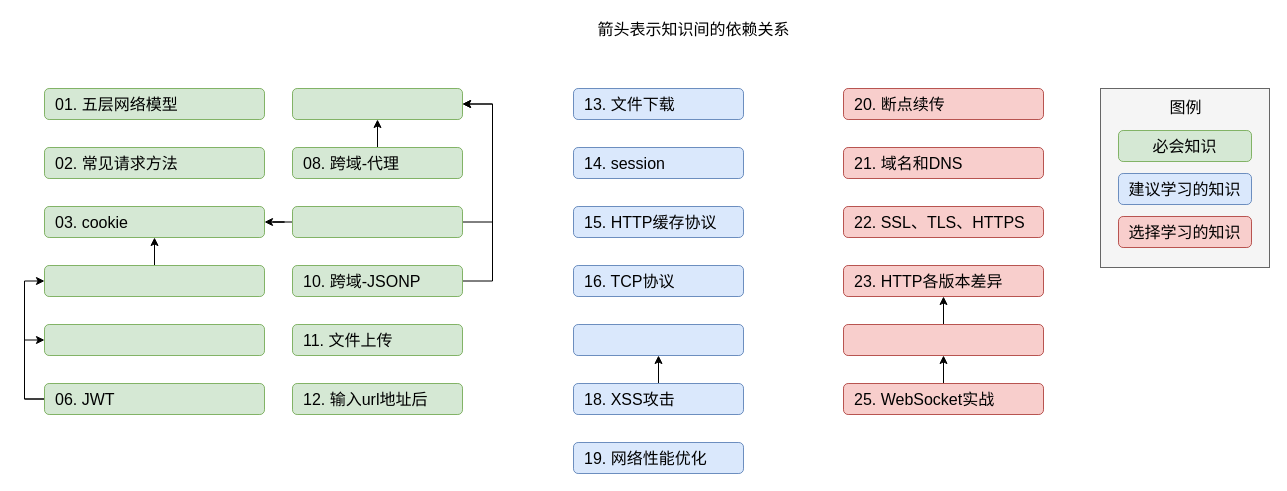
Some shapes in this 1287 by 491 pixel diagram are drawn without their labels. Here are the shapes that lost their labels. From the top down, the centre of each, then its label:
At point (377, 104): "07. 同源策略".
At point (377, 222): "09. 跨域-CORS".
At point (154, 280): "04. cookie和storage".
At point (154, 340): "05. 加密".
At point (658, 340): "17. CSRF攻击".
At point (943, 340): "24. WebSocket".
